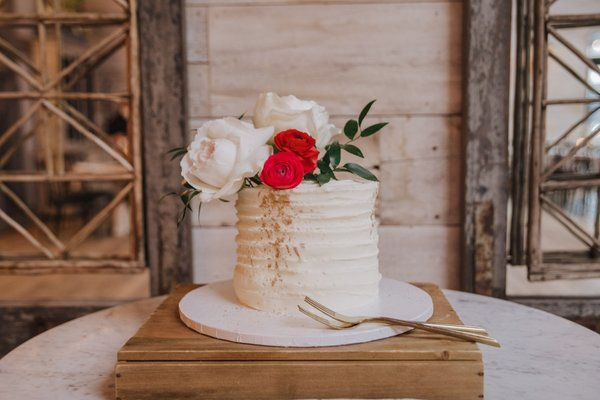burger: (295, 294, 483, 342)
